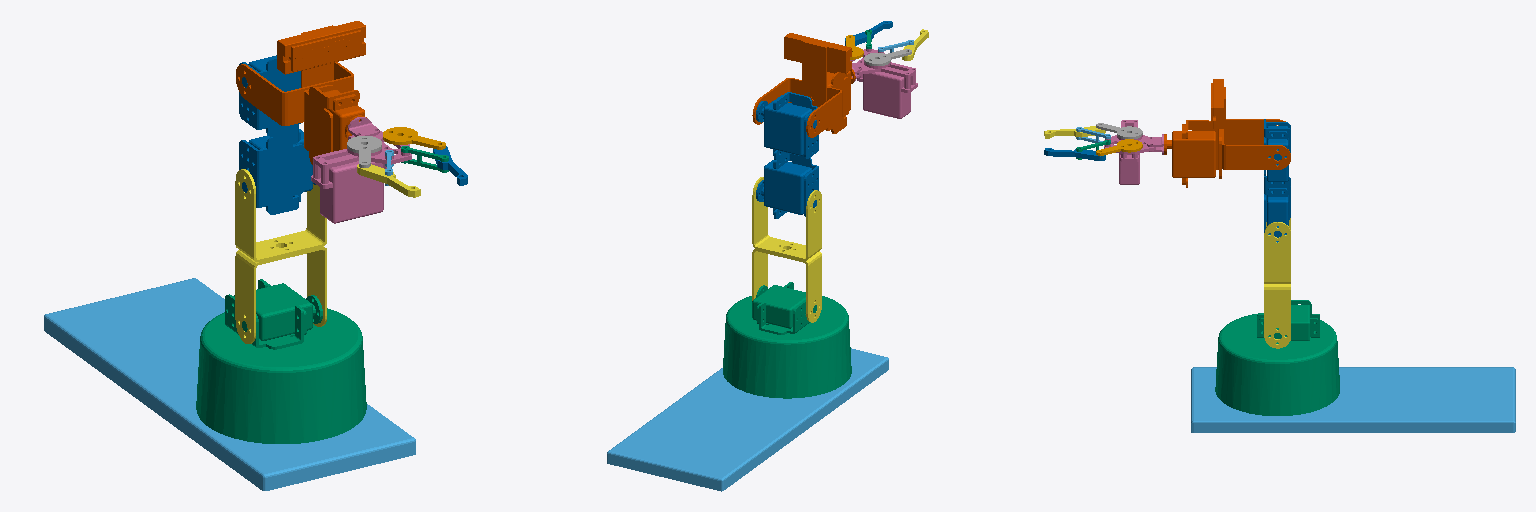
robot.urdf — robot:
<?xml version="1.0"?>
<robot xmlns:xacro="http://ros.org/wiki/xacro">
  <!-- world 프레임은 절대 좌표계를 나타내며, 일반적으로 (0,0,0) 에서 시작. 정의하지 않더라도 시뮬레이션 환경이 기본적으로 제공 -->
  <link name="world"/>  
  <joint name="virtual_joint" type="fixed">
    <parent link="world"/>
    <child link="base_link"/>
    <!--<origin xyz="0.2 0.2 0.01" rpy="0 0 3.14"/>-->
    <origin xyz="0.0 0.0 0.01" rpy="0 0 0"/>
  </joint>

  <!-- ===== base_link ===== -->
  <link name="base_link">
    <visual>
      <geometry>
        <mesh filename="package://my_robot_description/meshes/visual/base_link.dae" />
      </geometry>
    </visual>
    <collision>
      <origin xyz="0 0 0" rpy="0 0 0" />
      <geometry>
        <mesh filename="package://my_robot_description/meshes/collision/base_link.STL" />
      </geometry>
    </collision>
    <inertial>
      <origin xyz="0.0001224 -0.008875 -0.00097063" rpy="0 0 0" />
      <mass value="0.96902" />
      <inertia
        ixx="0.0071925"
        ixy="6.8211E-06"
        ixz="-2.5763E-06"
        iyy="0.0012545"
        iyz="0.00018781"
        izz="0.0082011"/>
    </inertial>
  </link>

  <!-- ===== link_1 & joint_1 ===== -->
  <link name="link_1">
    <visual>
      <geometry>
        <mesh filename="package://my_robot_description/meshes/visual/link_1.dae" />
      </geometry>
    </visual>
    <collision>
      <geometry>
        <mesh filename="package://my_robot_description/meshes/collision/link_1.STL" />
      </geometry>
    </collision>
    <inertial>
      <origin xyz="-0.000609658597790607 0.00330590585718646 -0.00933034986379267" />
      <mass value="0.328947846694297" />
      <inertia
        ixx="0.00045094993717689"
        ixy="1.89811951102791E-06"
        ixz="3.525456008562E-06"
        iyy="0.00044481443653274"
        iyz="-2.29700773239265E-05"
        izz="0.000597809662084399" />
    </inertial>
  </link>
  <joint name="joint_1" type="revolute">
    <safety_controller k_position="100.0" k_velocity="40.0" soft_lower_limit="-1.5" soft_upper_limit="1.5" />
    <origin xyz="-1.1147E-05 -0.071734 0.0592" rpy="0 0 0" />
    <parent link="base_link" />
    <child link="link_1" />
    <axis xyz="0 0 1" />
    <limit lower="-1.57" upper="1.57" effort="100" velocity="1" />
    <dynamics damping="5.0" friction="1.0"/>
  </joint>

  <!-- ===== link_2 & joint_2 ===== -->
  <link name="link_2">
    <visual>
      <geometry>
        <mesh filename="package://my_robot_description/meshes/visual/link_2.dae" />
      </geometry>
    </visual>
    <collision>
      <geometry>
        <mesh filename="package://my_robot_description/meshes/collision/link_2.STL" />
      </geometry>
    </collision>
    <inertial>
      <origin xyz="-0.0288000000000148 6.00742142798727E-14 0.0519999999999917" />
      <mass value="0.0446134376029328" />
      <inertia
        ixx="4.05401757980631E-05"
        ixy="3.17637334559488E-22"
        ixz="2.01367711623734E-20"
        iyy="6.55761730829189E-05"
        iyz="-1.94385167769473E-21"
        izz="2.97446545917081E-05" />
    </inertial>
  </link>
  <joint name="joint_2" type="revolute">
    <safety_controller k_position="100.0" k_velocity="40.0" soft_lower_limit="-1.5" soft_upper_limit="1.5" />
    <origin xyz="0.0288 0 0.013" rpy="0 0 0" />
    <parent link="link_1" />
    <child link="link_2" />
    <axis xyz="-1 0 0" />
    <limit lower="-1.57" upper="1.57" effort="100" velocity="1" />
    <dynamics damping="5.0" friction="1.0"/>
  </joint>

  <!-- ===== link_3 & joint_3 ===== -->
  <link name="link_3">
    <visual>
      <geometry>
        <mesh filename="package://my_robot_description/meshes/visual/link_3.dae" />
      </geometry>
    </visual>
    <collision>
      <geometry>
        <mesh filename="package://my_robot_description/meshes/collision/link_3.STL" />
      </geometry>
    </collision>
    <inertial>
      <origin xyz="-0.0286220120797086 -0.001175733216222 0.0392749999999918" />
      <mass value="0.220136721586207" />
      <inertia
        ixx="0.000235043102755768"
        ixy="-1.43403053131161E-06"
        ixz="1.13252955862252E-19"
        iyy="0.000262566063435836"
        iyz="-6.04471436443364E-19"
        izz="4.63707847937597E-05" />
    </inertial>
  </link>
  <joint name="joint_3" type="revolute">
    <safety_controller k_position="100.0" k_velocity="40.0" soft_lower_limit="-1.5" soft_upper_limit="1.5" />
    <origin xyz="-0.002 0 0.104" rpy="0 0 0" />
    <parent link="link_2" />
    <child link="link_3" />
    <axis xyz="-1 0 0" />
    <limit lower="-1.57" upper="1.57" effort="100" velocity="1" />
    <dynamics damping="0.5" friction="0.1"/>
  </joint>

  <!-- ===== link_4 & joint_4 ===== -->
  <link name="link_4">
    <visual>
      <geometry>
        <mesh filename="package://my_robot_description/meshes/visual/link_4.dae" />
      </geometry>
    </visual>
    <collision>
      <geometry>
        <mesh filename="package://my_robot_description/meshes/collision/link_4.STL" />
      </geometry>
    </collision>
    <inertial>
      <origin xyz="-0.0297774697183034 -0.00821390272175576 0.0687270935087147" />
      <mass value="0.132393899698309" />
      <inertia
        ixx="8.71651655946543E-05"
        ixy="-2.50552338787903E-07"
        ixz="2.8603594687542E-07"
        iyy="8.49060105958196E-05"
        iyz="7.84914917087442E-06"
        izz="3.91241827118605E-05" />
    </inertial>
  </link>
  <joint name="joint_4" type="revolute">
    <safety_controller k_position="100.0" k_velocity="40.0" soft_lower_limit="0" soft_upper_limit="3.1" />
    <origin xyz="0.002 0 0.07855" rpy="1.5708 0 0" />
    <parent link="link_3" />
    <child link="link_4" />
    <axis xyz="-1 0 0" />
    <!--원래 lower 0, moveit에서 부동소수점 오류때문에 수정 -->
    <limit lower="0.0" upper="3.14" effort="100" velocity="1" />
    <dynamics damping="0.5" friction="0.1"/>
  </joint>

  <!-- ===== handlink_1 & joint_5 ===== -->
  <link name="link_5">
    <visual>
      <geometry>
        <mesh filename="package://my_robot_description/meshes/visual/link_5.dae" />
      </geometry>
    </visual>
    <collision>
      <geometry>
        <mesh filename="package://my_robot_description/meshes/collision/link_5.STL" />
      </geometry>
    </collision>
    <inertial>
      <origin xyz="-0.0212995941604227 -0.0189419547084066 0.0311529603124066" />
      <mass value="0.109476145966328" />
      <inertia
        ixx="2.8150279625261E-05"
        ixy="-6.01204162152963E-06"
        ixz="1.94732192852111E-06"
        iyy="2.96177247143144E-05"
        iyz="1.74075431085897E-06"
        izz="4.32724706664679E-05" />
    </inertial>
  </link>
  <joint name="joint_5" type="revolute">
    <safety_controller k_position="100.0" k_velocity="40.0" soft_lower_limit="-1.5" soft_upper_limit="1.5" />
    <origin xyz="-0.0288 0 0.1051" rpy="0 0 0" />
    <parent link="link_4" />
    <child link="link_5" />
    <axis xyz="0 0 -1" />
    <limit lower="-1.57" upper="1.57" effort="100" velocity="1" />
    <dynamics damping="0.5" friction="0.1"/>
  </joint>

  <!-- ===== handlink_2 & jointhand_1 ===== -->
  <link name="handlink_1">
    <visual>
      <geometry>
        <mesh filename="package://my_robot_description/meshes/visual/handlink_1.dae" />
      </geometry>
    </visual>
    <collision>
      <geometry>
        <mesh filename="package://my_robot_description/meshes/collision/handlink_1.STL" />
      </geometry>
    </collision>
    <inertial>
      <origin xyz="1.91302595857479E-06 -0.00124999999999997 0.00659111702735025" />
      <mass value="0.00398580770176869" />
      <inertia
        ixx="5.75743202308589E-07"
        ixy="-4.10766755623607E-23"
        ixz="-9.24514874080794E-11"
        iyy="6.89575574391505E-07"
        iyz="1.53560939821316E-22"
        izz="1.17984255105591E-07" />
    </inertial>
  </link>
  <joint name="jointhand_1" type="revolute">
    <safety_controller k_position="100.0" k_velocity="40.0" soft_lower_limit="-1.5" soft_upper_limit="1.5" />
    <origin xyz="-0.014 0.0065 0.032" rpy="0 -0.5236 0" />
    <parent link="link_5" />
    <child link="handlink_1" />
    <axis xyz="0 -1 0" />
    <limit lower="-1.57" upper="1.57" effort="100" velocity="1" />
    <dynamics damping="0.5" friction="0.1"/>
  </joint>

  <!-- ===== handlink_2 & jointhand_2 (mimic=jointhand_1) ===== -->
  <link name="handlink_2">
    <visual>
      <geometry>
        <mesh filename="package://my_robot_description/meshes/visual/handlink_2.dae" />
      </geometry>
    </visual>
    <collision>
      <geometry>
        <mesh filename="package://my_robot_description/meshes/collision/handlink_2.STL" />
      </geometry>
    </collision>
    <inertial>
      <origin xyz="-1.91302594651499E-06 -0.00124999999999997 0.00659111702735596" />
      <mass value="0.00398580770176871" />
      <inertia
        ixx="5.75743202308592E-07"
        ixy="-3.65809007719365E-23"
        ixz="9.24514874082316E-11"
        iyy="6.8957557439151E-07"
        iyz="2.61481119429676E-22"
        izz="1.17984255105593E-07" />
    </inertial>
  </link>
  <joint name="jointhand_2" type="revolute">
    <safety_controller k_position="100.0" k_velocity="40.0" soft_lower_limit="-1.5" soft_upper_limit="1.5" />
    <origin xyz="0.014 0.0065 0.032" rpy="0 0.5236 0" />
    <parent link="link_5" />
    <child link="handlink_2" />
    <axis xyz="0 -1 0" />
    <limit lower="-1.57" upper="1.57" effort="100" velocity="1" />
    <!-- Here we mimic jointhand_1 -->
    <mimic joint="jointhand_1" multiplier="-1" offset="0" />
    <dynamics damping="0.5" friction="0.1"/>
  </joint>

  <!-- ===== handlink_3 & jointhand_3 (mimic=jointhand_1) ===== -->
  <link name="handlink_3">
    <visual>
      <geometry>
        <mesh filename="package://my_robot_description/meshes/visual/handlink_3.dae" />
      </geometry>
    </visual>
    <collision>
      <geometry>
        <mesh filename="package://my_robot_description/meshes/collision/handlink_3.STL" />
      </geometry>
    </collision>
    <inertial>
      <origin xyz="-0.00763735753923525 -0.0129517685330851 -0.00275000000000003" />
      <mass value="0.00166444867208552" />
      <inertia
        ixx="1.65921841786484E-07"
        ixy="-8.09245865835559E-08"
        ixz="7.86240296925019E-22"
        iyy="7.64057024757358E-08"
        iyz="1.48393808362868E-21"
        izz="1.89826186055393E-07" />
    </inertial>
  </link>
  <joint name="jointhand_3" type="revolute">
    <safety_controller k_position="100.0" k_velocity="40.0" soft_lower_limit="-1.5" soft_upper_limit="1.5" />
    <origin xyz="-0.0062319 0.004 0.052" rpy="-1.5708 0 0" />
    <parent link="link_5" />
    <child link="handlink_3" />
    <axis xyz="0 0 -1" />
    <limit lower="-1.57" upper="1.57" effort="100" velocity="1" />
    <mimic joint="jointhand_1" multiplier="1" offset="0" />
    <dynamics damping="0.5" friction="0.1"/>
  </joint>

  <!-- ===== handlink_4 & jointhand_4 (mimic=jointhand_1) ===== -->
  <link name="handlink_4">
    <visual>
      <geometry>
        <mesh filename="package://my_robot_description/meshes/visual/handlink_4.dae" />
      </geometry>
    </visual>
    <collision>
      <geometry>
        <mesh filename="package://my_robot_description/meshes/collision/handlink_4.STL" />
      </geometry>
    </collision>
    <inertial>
      <origin xyz="0.00763735753899841 -0.0129517685330592 -0.00274999999999975" rpy="0 0 0" />
      <mass value="0.00166444867208552" />
      <inertia
        ixx="1.65921841785793E-07"
        ixy="8.09245865839385E-08"
        ixz="-5.25249334069242E-22"
        iyy="7.64057024764273E-08"
        iyz="4.48254790926745E-22"
        izz="1.89826186055393E-07" />
    </inertial>
  </link>
  <joint name="jointhand_4" type="revolute">
    <safety_controller k_position="100.0" k_velocity="40.0" soft_lower_limit="-1.5" soft_upper_limit="1.5" />
    <origin xyz="0.0062319 0.004 0.052" rpy="-1.5708 0 0" />
    <parent link="link_5" />
    <child link="handlink_4" />
    <axis xyz="0 0 -1" />
    <limit lower="-1.57" upper="1.57" effort="100" velocity="1" />
    <mimic joint="jointhand_1" multiplier="-1" offset="0" />
    <dynamics damping="0.5" friction="0.1"/>
  </joint>

  <!-- ===== handlink_5 & jointhand_5 (mimic=jointhand_1) ===== -->
  <link name="handlink_5">
    <visual>
      <geometry>
        <mesh filename="package://my_robot_description/meshes/visual/handlink_5.dae" />
      </geometry>
    </visual>
    <collision>
      <geometry>
        <mesh filename="package://my_robot_description/meshes/collision/handlink_5.STL" />
      </geometry>
    </collision>
    <inertial>
      <origin xyz="-0.002176906577616 -0.0025 0.0197718141150072" />
      <mass value="0.00540491979787455" />
      <inertia
        ixx="1.38362372103744E-06"
        ixy="3.15445699744897E-22"
        ixz="2.47721674313908E-07"
        iyy="1.46051786734624E-06"
        iyz="-1.77861678727195E-21"
        izz="9.94146454666123E-08" />
    </inertial>
  </link>
  <joint name="jointhand_5" type="revolute">
    <safety_controller k_position="100.0" k_velocity="40.0" soft_lower_limit="-1.5" soft_upper_limit="1.5" />
    <origin xyz="-0.00015981 -0.0025 0.031" rpy="0 0.88992 0" />
    <parent link="handlink_1" />
    <child link="handlink_5" />
    <axis xyz="0 -1 0" />
    <limit lower="-1.57" upper="1.57" effort="100" velocity="1" />
    <mimic joint="jointhand_1" multiplier="-1" offset="0" />
    <dynamics damping="0.5" friction="0.1"/>
  </joint>

  <!-- ===== handlink_6 & jointhand_6 (mimic=jointhand_1) ===== -->
  <link name="handlink_6">
    <visual>
      <geometry>
        <mesh filename="package://my_robot_description/meshes/visual/handlink_6.dae" />
      </geometry>
    </visual>
    <collision>
      <geometry>
        <mesh filename="package://my_robot_description/meshes/collision/handlink_6.STL" />
      </geometry>
    </collision>
    <inertial>
      <origin xyz="0.00217690657761602 -0.00250000000000006 0.0197718141150072" rpy="0 0 0" />
      <mass value="0.00540491979787456" />
      <inertia
        ixx="1.38362372103744E-06"
        ixy="2.11126980545338E-22"
        ixz="-2.47721674313907E-07"
        iyy="1.46051786734624E-06"
        iyz="9.86615744254017E-22"
        izz="9.94146454666123E-08" />
    </inertial>
  </link>
  <joint name="jointhand_6" type="revolute">
    <safety_controller k_position="100.0" k_velocity="40.0" soft_lower_limit="-1.5" soft_upper_limit="1.5" />
    <origin xyz="0.00015981 -0.0025 0.031" rpy="0 -0.88992 0" />
    <parent link="handlink_2" />
    <child link="handlink_6" />
    <axis xyz="0 1 0" />
    <limit lower="-1.57" upper="1.57" effort="100" velocity="1" />
    <mimic joint="jointhand_1" multiplier="-1" offset="0" />
    <dynamics damping="0.5" friction="0.1"/>
  </joint>


  <link name="camera_link">
    <visual>
        <geometry>
        <mesh filename="package://my_robot_description/meshes/visual/camera_link.dae" />
        </geometry>
    </visual> 
    <collision>
    <geometry>
        <mesh filename="package://my_robot_description/meshes/collision/camera_link.STL" />
    </geometry>
    </collision>    
    <inertial>
    <origin xyz="3.07183329686413E-06 -0.00663656264147928 0.0383051566033017" />
    <mass value="0.051264410041714" />
    <inertia ixx="7.88058511874274E-06" ixy="1.16743639796377E-09" ixz="-5.03110270057242E-10" iyy="2.14607681391912E-05" iyz="9.23166160522923E-07" izz="1.51821308345286E-05" />
    </inertial>
  </link>  

  <joint name="camera_joint" type="fixed">
      <origin xyz="-0.0288 0 0.048" rpy="-1.5708 0 0" />
      <parent link="link_4" />
      <child link="camera_link" />
      <axis xyz="0 0 0" />
  </joint>


</robot>

--- Facts derived from the render (not from the file) ---
3 views of the same robot in one strip: view 1: azimuth 30°, elevation 25°; view 2: azimuth 150°, elevation 25°; view 3: azimuth 270°, elevation 25° (orthographic).
Robot: robot — 14 links, 13 joints (11 revolute, 2 fixed); root link world; default pose: all joints at 0.
Links seen in each view (by area): view 1: base_link, link_1, link_2, link_3, link_4, link_5, camera_link, handlink_2, handlink_5, handlink_1; view 2: base_link, link_1, link_3, link_2, link_5, camera_link, link_4; view 3: base_link, link_1, link_4, link_2, link_3, link_5, camera_link.
Link boxes in pixels (<box>): base_link: <box>44,278,415,490</box>; link_1: <box>196,279,366,443</box>; link_2: <box>235,169,326,343</box>; link_3: <box>239,55,315,214</box>; link_4: <box>236,62,366,164</box>; link_5: <box>311,117,411,223</box>; camera_link: <box>277,21,365,87</box>; handlink_2: <box>383,127,445,149</box>; handlink_5: <box>357,164,420,197</box>; handlink_1: <box>347,136,381,167</box>; base_link: <box>607,348,888,491</box>; link_1: <box>723,282,851,398</box>; link_3: <box>756,92,818,218</box>; link_2: <box>752,177,821,322</box>; link_5: <box>850,49,917,118</box>; camera_link: <box>784,33,851,106</box>; link_4: <box>752,69,855,137</box>; base_link: <box>1191,367,1515,432</box>; link_1: <box>1215,300,1339,415</box>; link_4: <box>1164,119,1290,187</box>; link_2: <box>1264,218,1290,348</box>; link_3: <box>1264,119,1290,242</box>; link_5: <box>1104,120,1163,184</box>; camera_link: <box>1211,79,1225,144</box>.
Size in the robot's own frame: 0.12 by 0.4359 by 0.3192 metres.
Meshes: 13 distinct files referenced, 13 mesh visuals loaded (13 Collada DAE).
